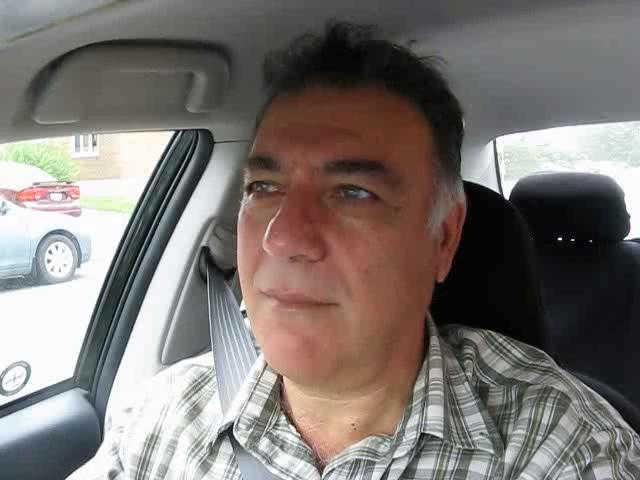no_yawn: (243, 272, 352, 328)
open_eyeL: (236, 167, 296, 208)
open_eyeR: (319, 171, 400, 218)
